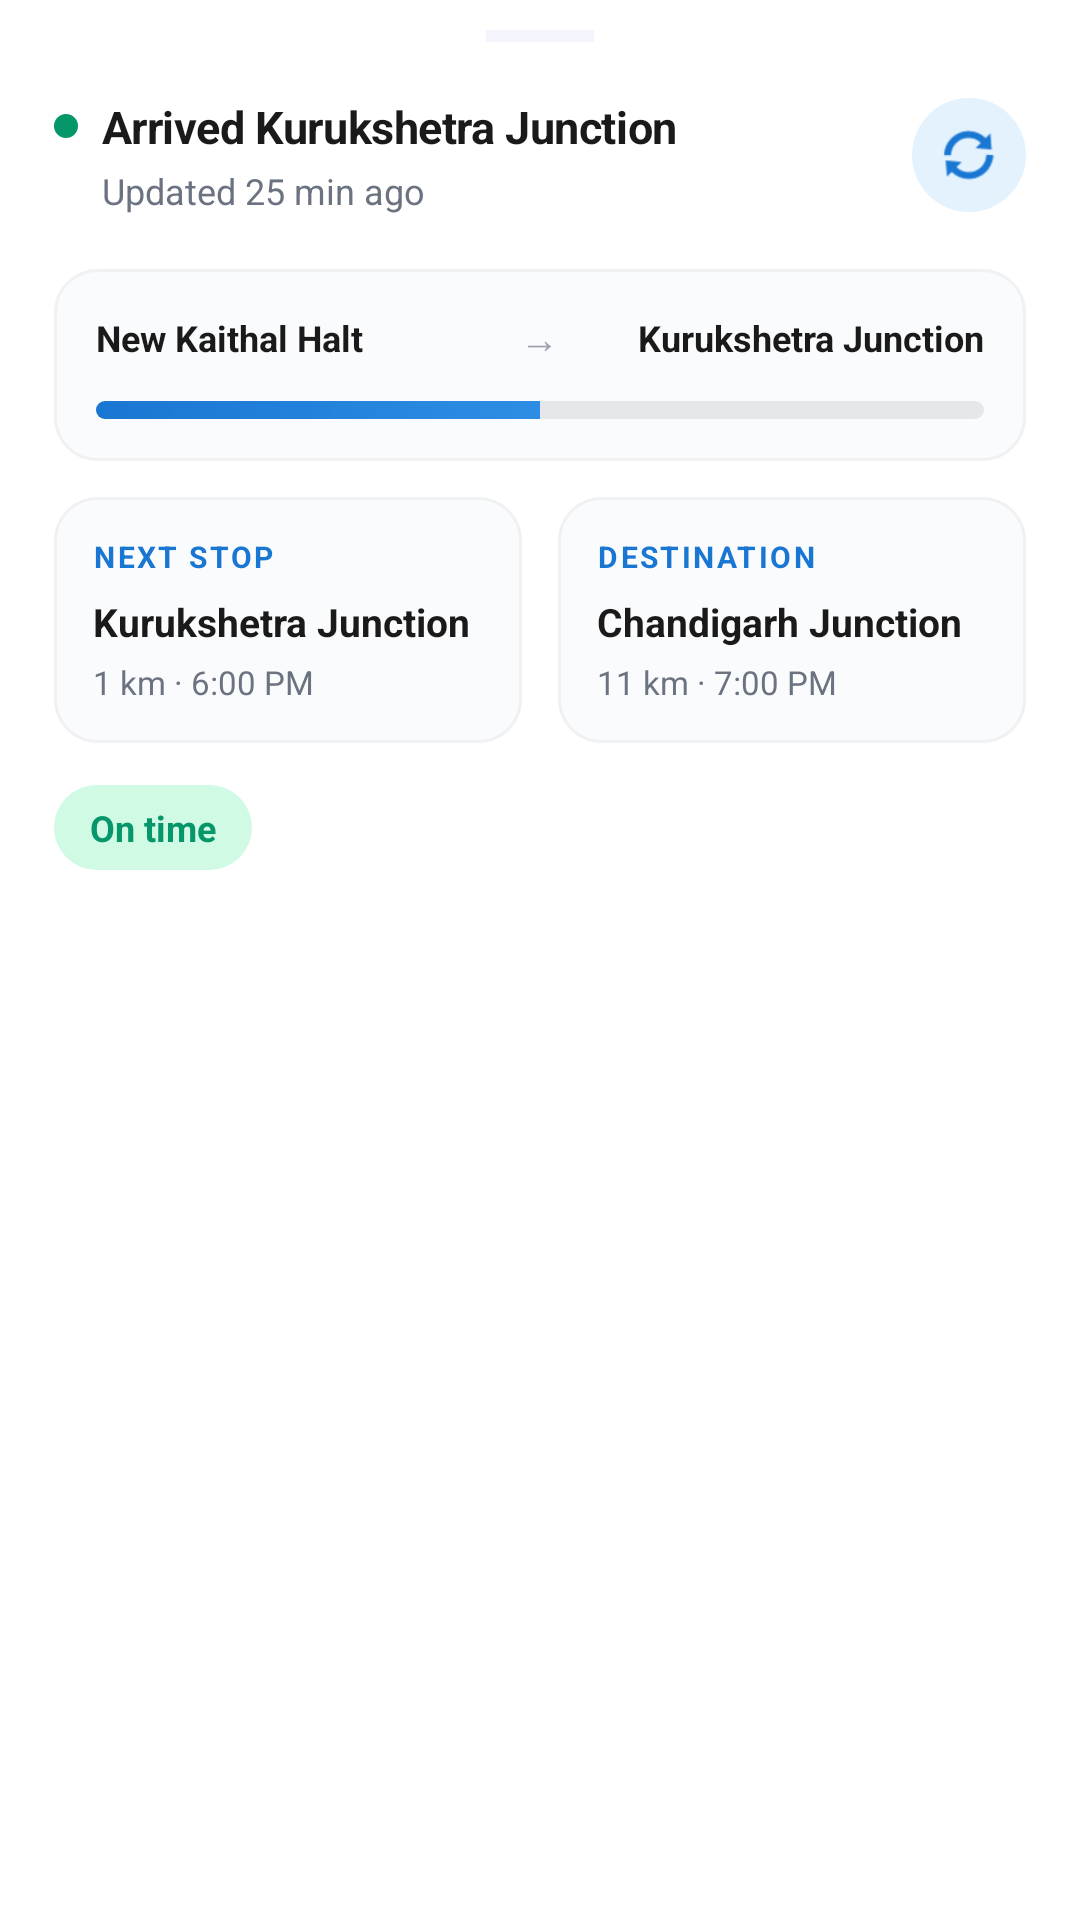

Named icons in this screenshot (1080px×1920px) and their bounding boxes, (x1, y1, x2, y2):
Refresh: (912, 98, 1026, 212)
